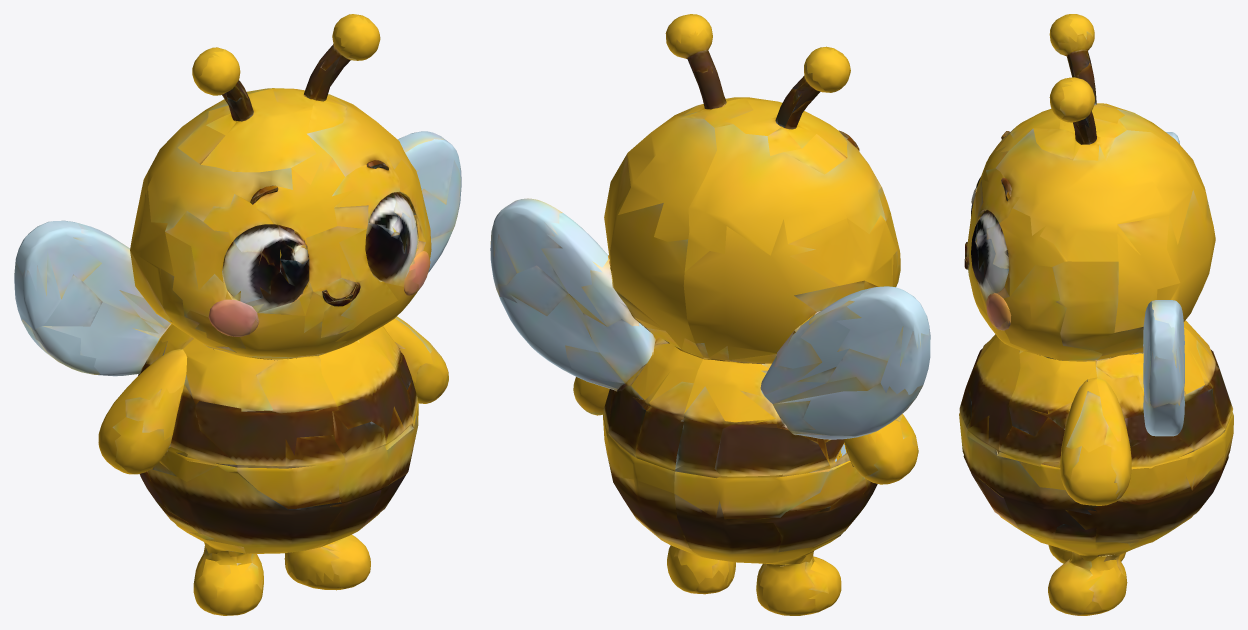
File: buzzy.glb
3 renders of one model, left to right at view 1: azimuth 30°, elevation 25°; view 2: azimuth 150°, elevation 25°; view 3: azimuth 270°, elevation 25°, orthographic. The views are drawn at different scales.
Size of the model in its own units: 1.54 by 1.9 by 0.8821.
1 material, 1 textured.
